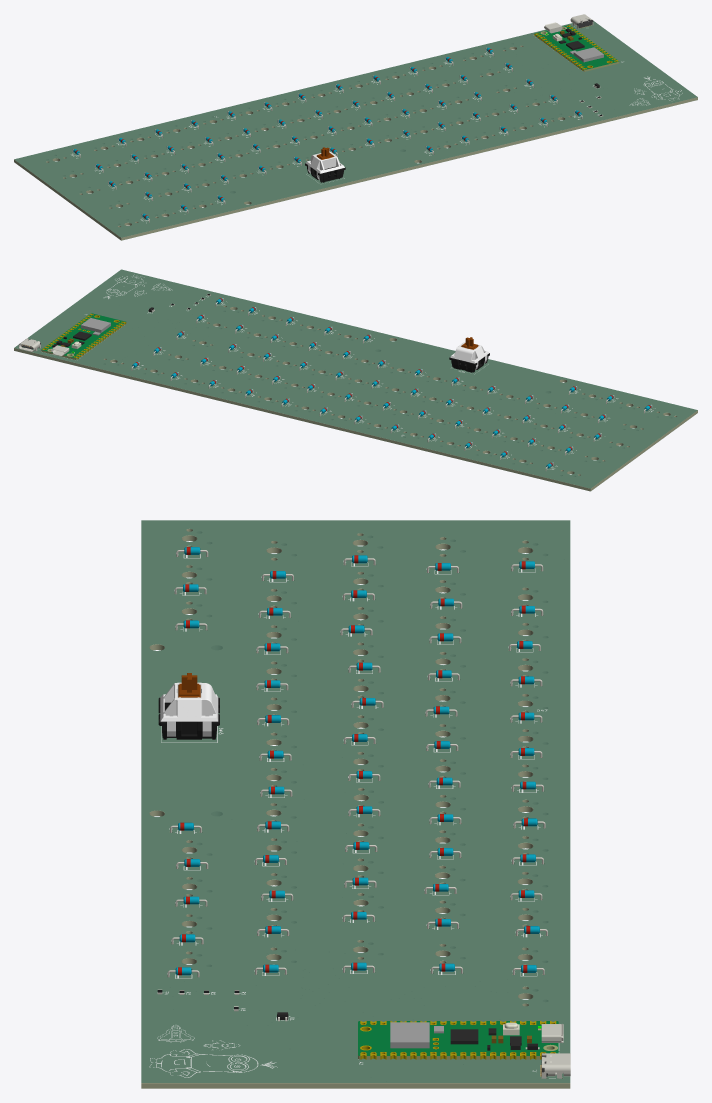
File: Keyboard.glb
The picture shows the model from 3 angles, top to bottom: view 1: azimuth 30°, elevation 25°; view 2: azimuth 150°, elevation 25°; view 3: azimuth 270°, elevation 25°; orthographic projection. The views are drawn at different scales.
Parts seen in each view (by area): view 1: =>[0:1:1:18], =>[0:1:1:16], RaspberryPi_Pico_W_Module_KiCad, =>[0:1:1:15], =>[0:1:1:10]; view 2: =>[0:1:1:18], =>[0:1:1:16], RaspberryPi_Pico_W_Module_KiCad, =>[0:1:1:15], =>[0:1:1:10]; view 3: =>[0:1:1:16], =>[0:1:1:18], RaspberryPi_Pico_W_Module_KiCad, =>[0:1:1:10], =>[0:1:1:15].
Boxes of the visible parts, x1=… form: =>[0:1:1:18]: x1=14, y1=22, x2=697, y2=240; =>[0:1:1:16]: x1=14, y1=21, x2=697, y2=237; RaspberryPi_Pico_W_Module_KiCad: x1=534, y1=22, x2=619, y2=71; =>[0:1:1:15]: x1=71, y1=26, x2=682, y2=223; =>[0:1:1:10]: x1=305, y1=147, x2=345, y2=182; =>[0:1:1:18]: x1=14, y1=270, x2=697, y2=491; =>[0:1:1:16]: x1=14, y1=269, x2=697, y2=488; RaspberryPi_Pico_W_Module_KiCad: x1=41, y1=313, x2=126, y2=359; =>[0:1:1:15]: x1=41, y1=274, x2=655, y2=469; =>[0:1:1:10]: x1=449, y1=337, x2=489, y2=372; =>[0:1:1:16]: x1=141, y1=520, x2=570, y2=1082; =>[0:1:1:18]: x1=141, y1=521, x2=570, y2=1088; RaspberryPi_Pico_W_Module_KiCad: x1=358, y1=1021, x2=563, y2=1059; =>[0:1:1:10]: x1=158, y1=673, x2=219, y2=739; =>[0:1:1:15]: x1=149, y1=552, x2=559, y2=1078.
Size of the model in its own units: 0.3388 by 0.0186 by 0.1093.
